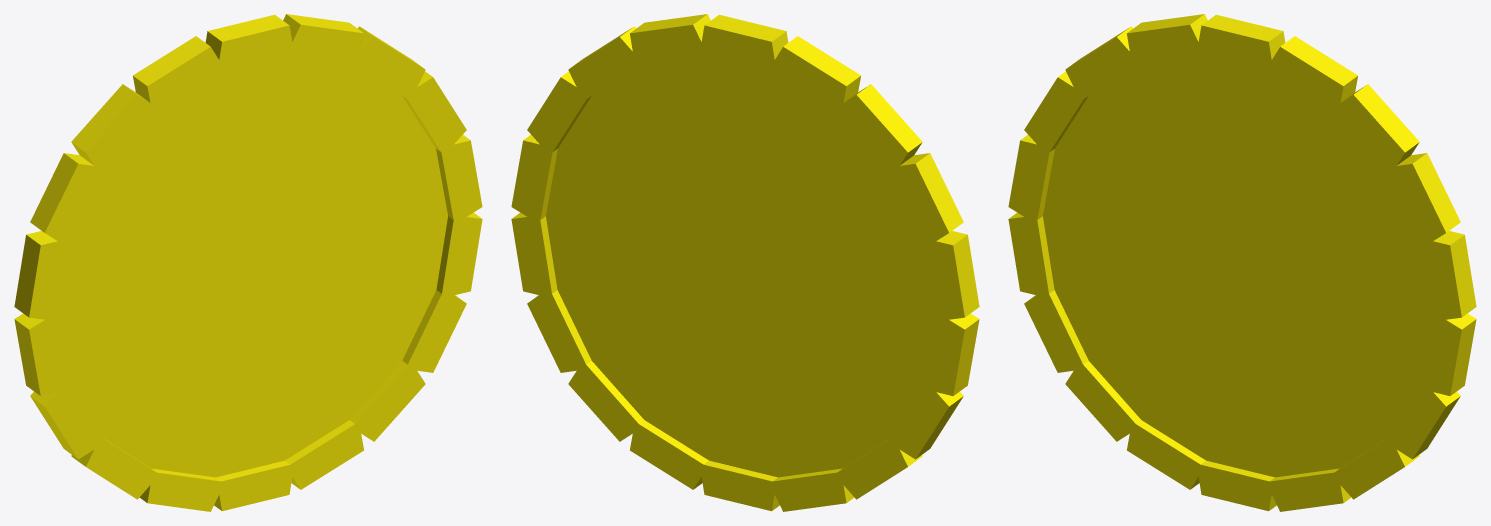
File: coin.FBX
The picture shows the model from 3 angles, left to right: view 1: azimuth 30°, elevation 25°; view 2: azimuth 150°, elevation 25°; view 3: azimuth 330°, elevation 25°; orthographic projection.
Parts seen in each view (by area): view 1: Cylinder001; view 2: Cylinder001; view 3: Cylinder001.
Part boxes in pixels (left/top/right/bottom): Cylinder001: left=14, top=14, right=482, bottom=511; Cylinder001: left=511, top=14, right=979, bottom=511; Cylinder001: left=1008, top=14, right=1476, bottom=511.
Size of the model in its own units: 4.51 by 4.46 by 0.2529.
Materials: 1 (1 with a texture image).
